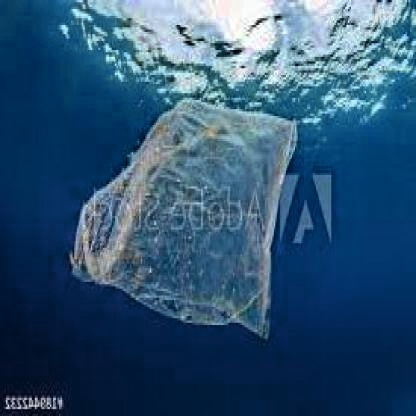pbag: (70, 95, 296, 343)
